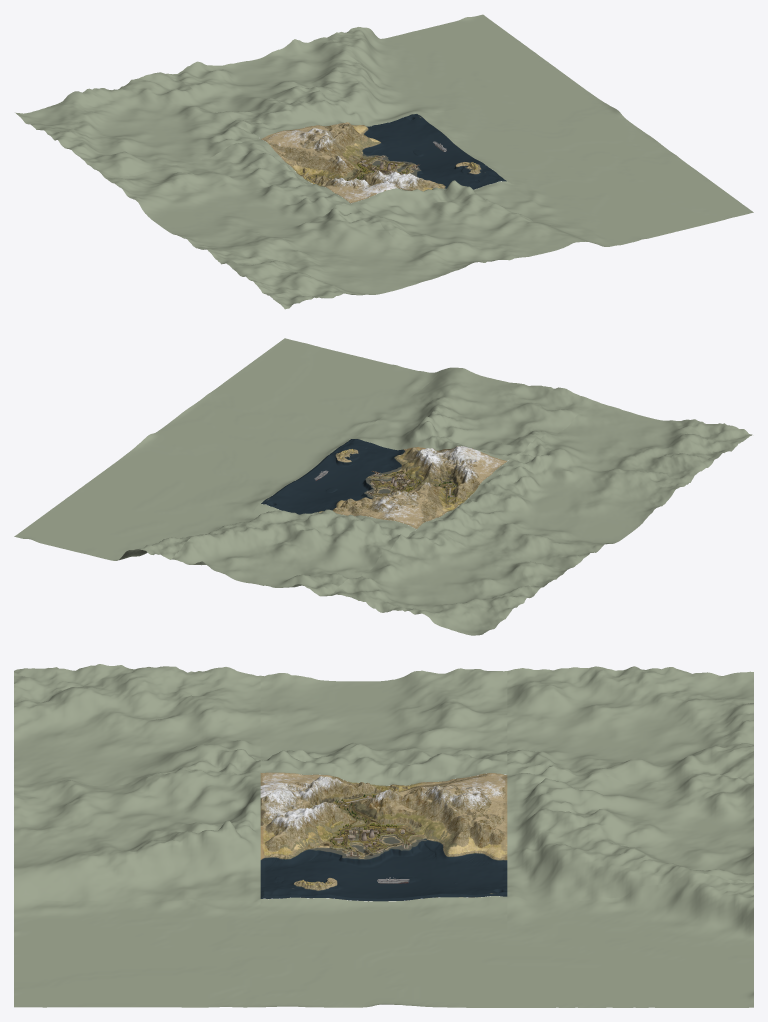
The model's file is map.glb.
3 views of the same model, one above another, from view 1: azimuth 30°, elevation 25°; view 2: azimuth 150°, elevation 25°; view 3: azimuth 270°, elevation 25° (orthographic). The views are drawn at different scales.
Visible parts, largest first — view 1: outer_terrain, terrain; view 2: outer_terrain, terrain; view 3: outer_terrain, terrain, objects.
Boxes of the visible parts, x1,y1,x2,y2 form: outer_terrain: (15,14,753,309); terrain: (261,114,506,203); outer_terrain: (14,338,752,635); terrain: (261,439,506,528); outer_terrain: (14,664,753,1007); terrain: (260,772,507,901); objects: (327,795,414,883).
Size of the model in its own units: 6144 by 358 by 6144.
5 materials, 1 textured.
